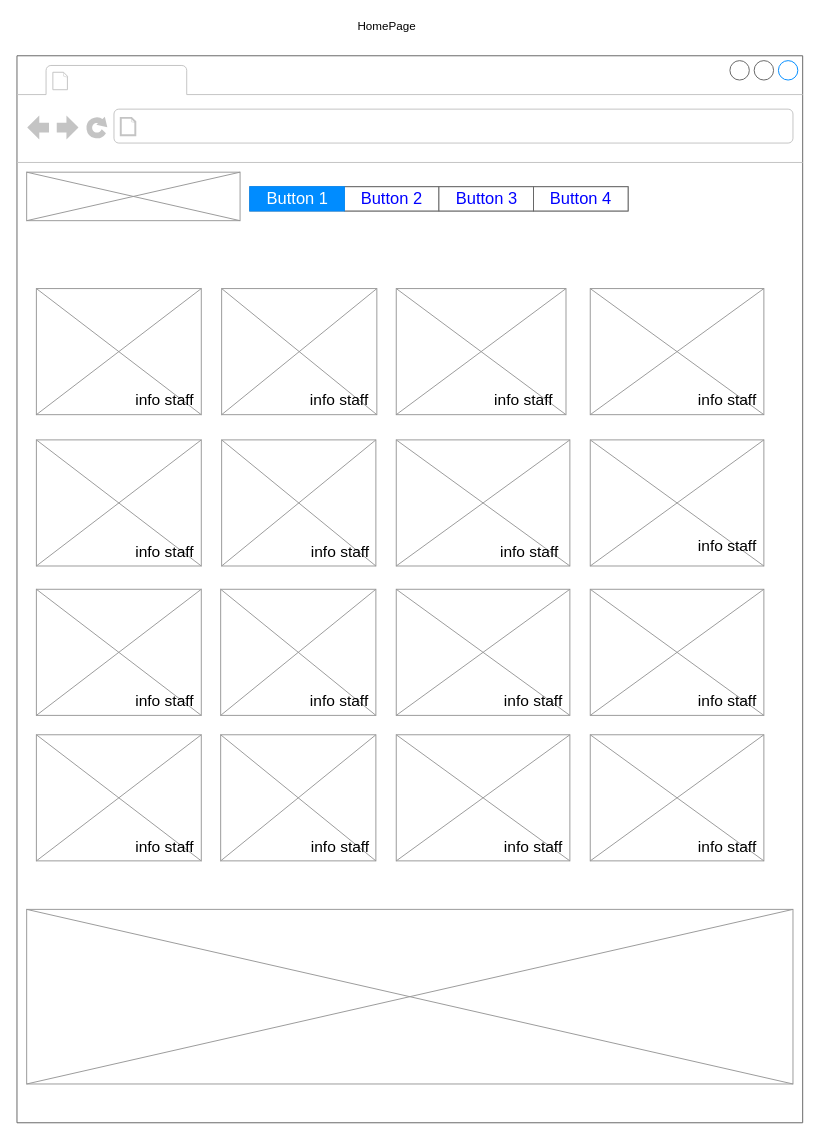
Image size: 820x1140. Some labels were removed from this diagram. The shapes that lost their labels are listed below. From the top down, each one's centre as x and y in pixels, then its label:
At point 128,79: "My Website".
At point 264,126: "https://www.mywebsite.com".
At point 133,196: "Logo".
At point 409,996: "Footer".
